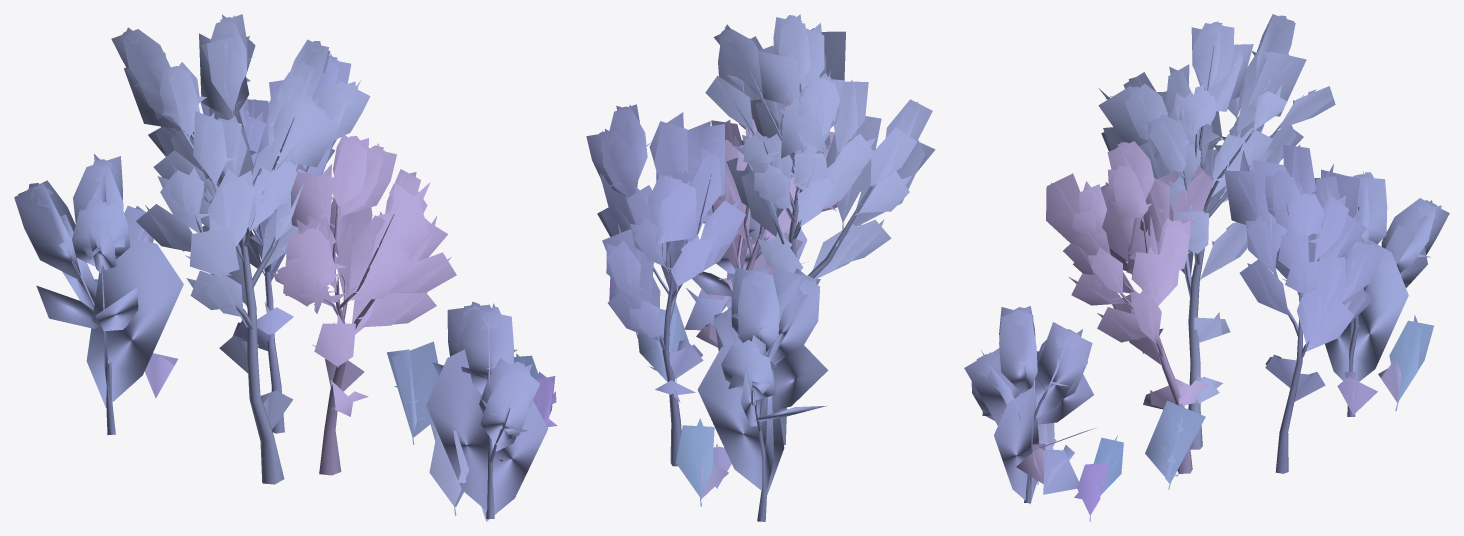
The picture shows the model from 3 angles, left to right: view 1: azimuth 30°, elevation 25°; view 2: azimuth 150°, elevation 25°; view 3: azimuth 270°, elevation 25°; orthographic projection. The views are drawn at different scales.
Visible parts, largest first — view 1: SM_BS_Oleander_255cm_HD; view 2: SM_BS_Oleander_255cm_HD; view 3: SM_BS_Oleander_255cm_HD.
Part boxes in pixels (x1=…): SM_BS_Oleander_255cm_HD: x1=14, y1=14, x2=557, y2=521; SM_BS_Oleander_255cm_HD: x1=586, y1=14, x2=935, y2=521; SM_BS_Oleander_255cm_HD: x1=964, y1=14, x2=1449, y2=521.
Bounding box in the file's own units: 104 × 80.69 × 98.08.
